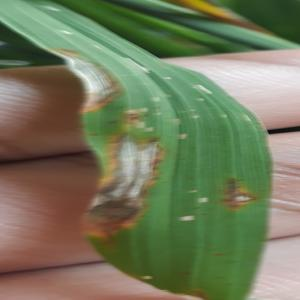Busuk Leher: (93, 123, 163, 242), (56, 46, 123, 114), (218, 188, 260, 209)
